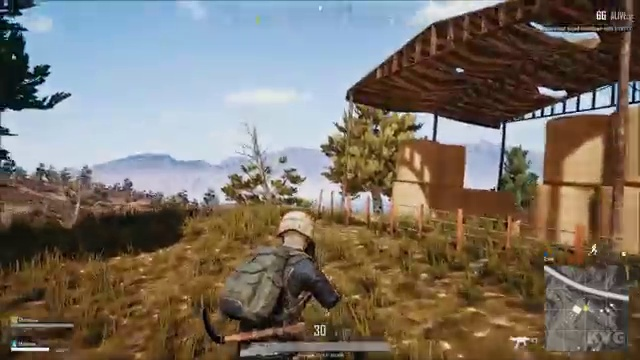Player: (191, 200, 369, 319)
